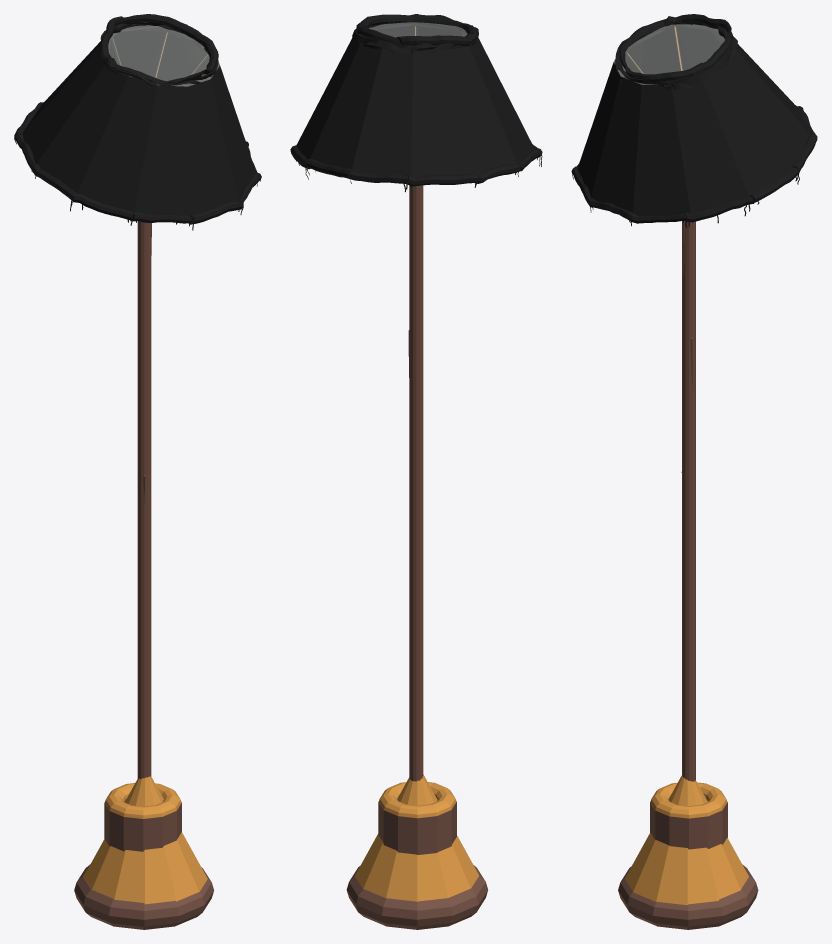
File: lamp.obj
3 renders of one model, left to right at view 1: azimuth 30°, elevation 25°; view 2: azimuth 150°, elevation 25°; view 3: azimuth 270°, elevation 25°, orthographic.
Visible parts, largest first — view 1: group188467767, group2146598150, group98939259, group295391733, group802999880, group2143784288; view 2: group188467767, group2146598150, group98939259, group295391733, group802999880, group2143784288; view 3: group188467767, group2146598150, group98939259, group295391733, group802999880, group2143784288.
Boxes of the visible parts, box(x1,y1,x2,y2) form: group188467767: box(14, 14, 261, 224); group2146598150: box(137, 221, 151, 778); group98939259: box(84, 776, 207, 904); group295391733: box(74, 864, 213, 929); group802999880: box(104, 798, 181, 851); group2143784288: box(105, 783, 181, 818); group188467767: box(290, 14, 542, 186); group2146598150: box(409, 185, 423, 781); group98939259: box(354, 774, 479, 901); group295391733: box(346, 865, 487, 929); group802999880: box(378, 801, 456, 854); group2143784288: box(379, 782, 456, 818); group188467767: box(571, 14, 817, 223); group2146598150: box(682, 221, 695, 781); group98939259: box(625, 775, 748, 905); group295391733: box(618, 864, 758, 929); group802999880: box(650, 798, 727, 849); group2143784288: box(650, 782, 727, 818).
Size of the model in its own units: 1.77 by 6.97 by 1.77.
